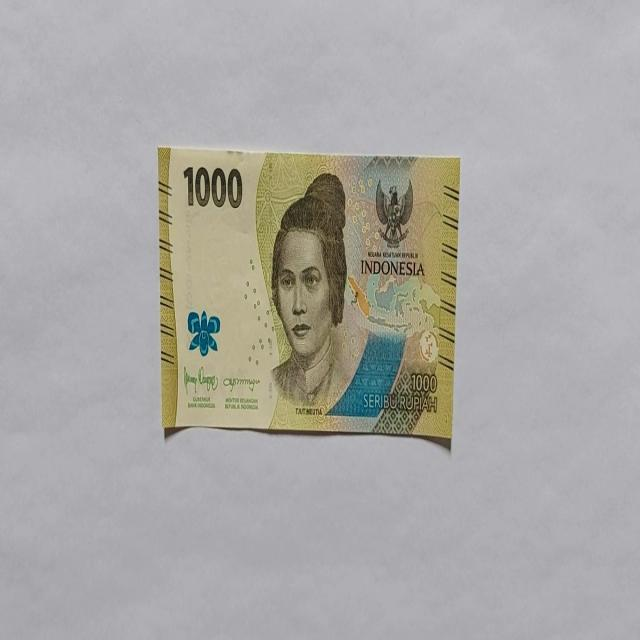seribu rupiah kertas: (157, 144, 460, 444)
